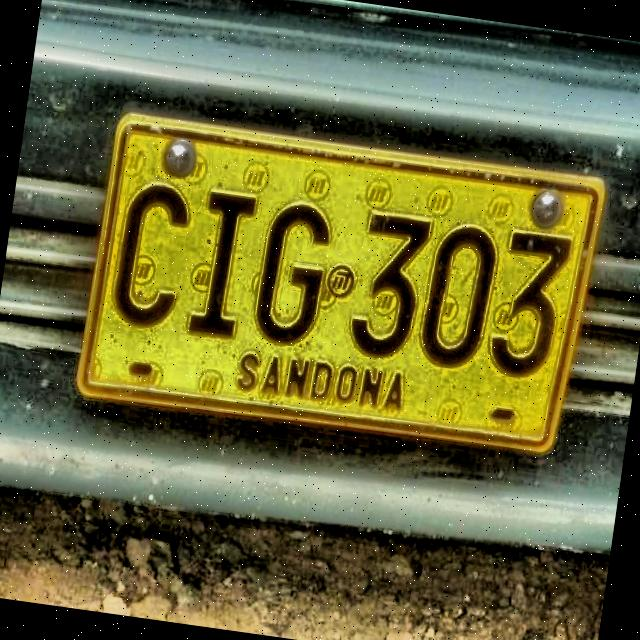plate: (81, 119, 602, 446)
